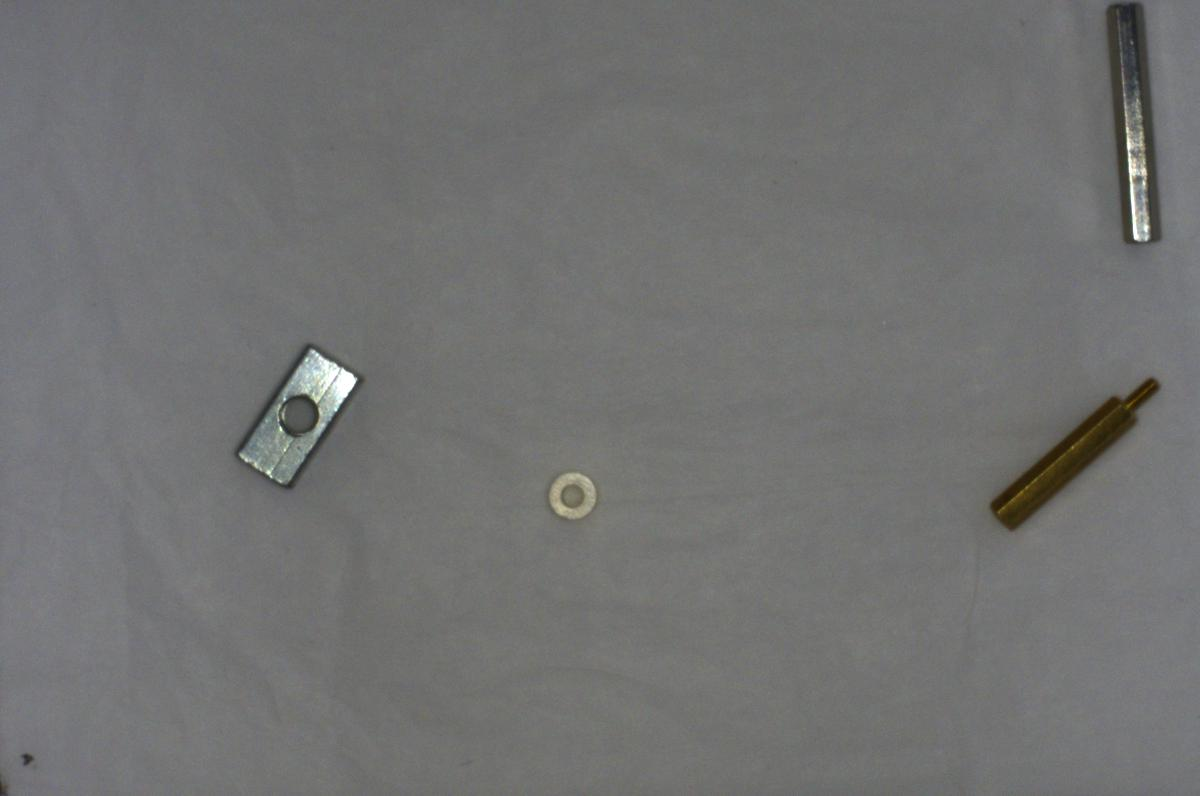Double hexagonal column: (1098, 10, 1171, 250)
Hexagon pillar: (986, 366, 1170, 533)
Plastic cushion pillar: (540, 465, 605, 526)
Rectangular nut: (232, 332, 364, 494)
